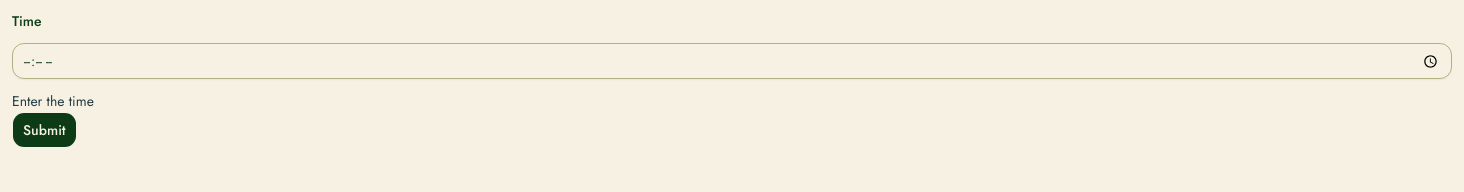
Test: TimeField › validation-error
This screenshot has width=1464, height=192.
Click the button "Submit".
click(44, 130)  # box [12,112,77,148]
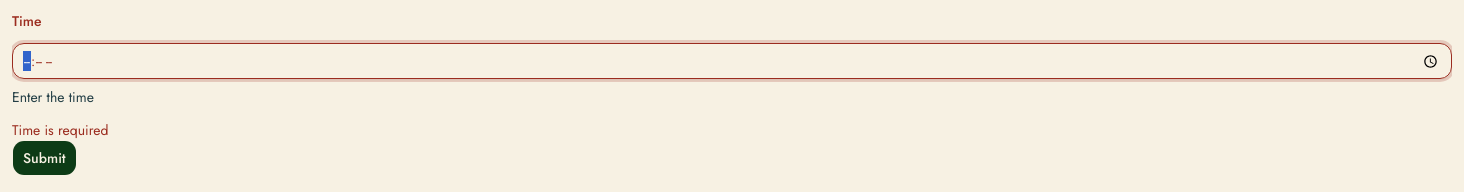
Result: the text "Time is required" is shown at [12,120,108,140]
